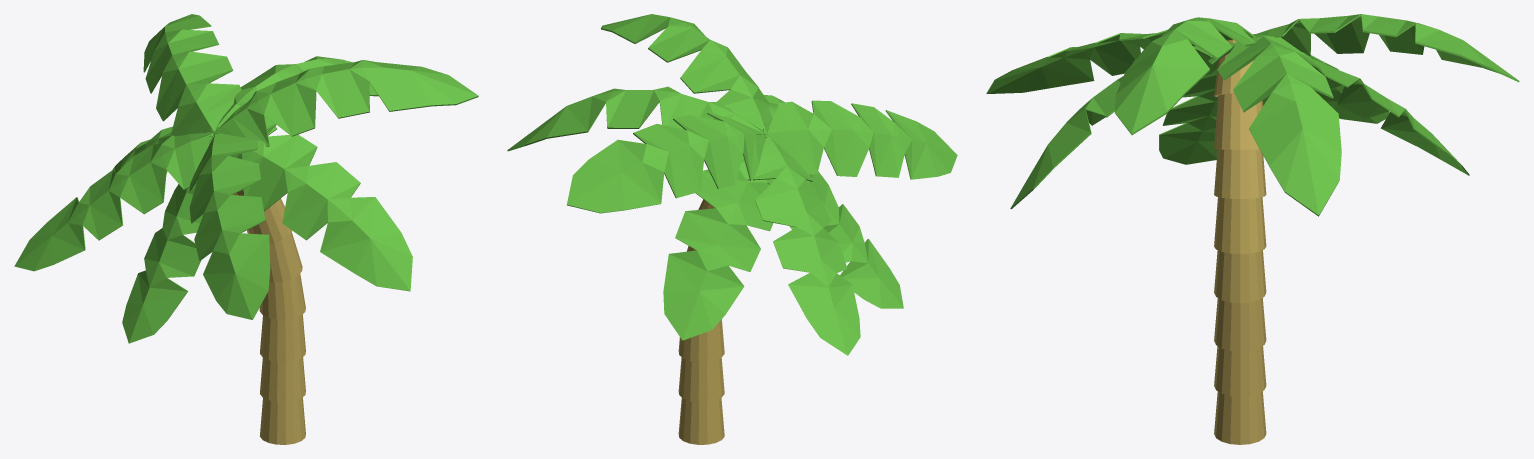
File: Palma_2.fbx
3 views of the same model, side by side, from view 1: azimuth 30°, elevation 25°; view 2: azimuth 150°, elevation 25°; view 3: azimuth 270°, elevation 25° (orthographic). The views are drawn at different scales.
Visible parts, largest first — view 1: Palma2; view 2: Palma2; view 3: Palma2.
Boxes of the visible parts, <box> form: Palma2: <box>14,14,478,444</box>; Palma2: <box>507,14,957,444</box>; Palma2: <box>986,14,1519,444</box>.
Size of the model in its own units: 12.77 by 12.59 by 14.28.
